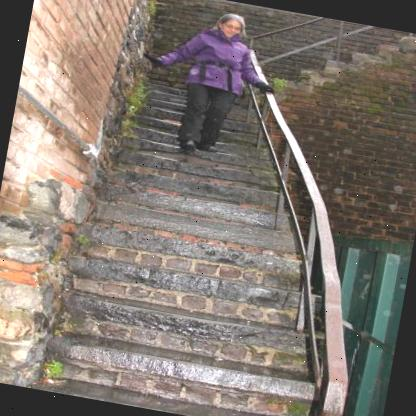person: (139, 0, 291, 165)
stair: (67, 128, 351, 416)
